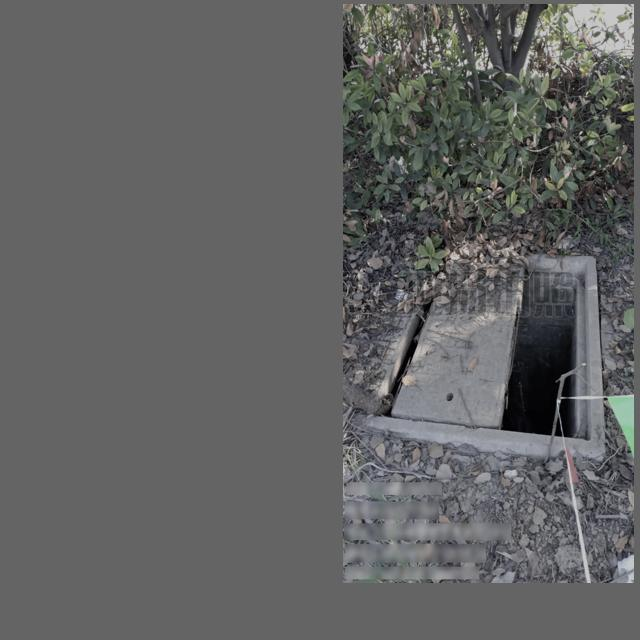lose: (345, 242, 606, 459)
